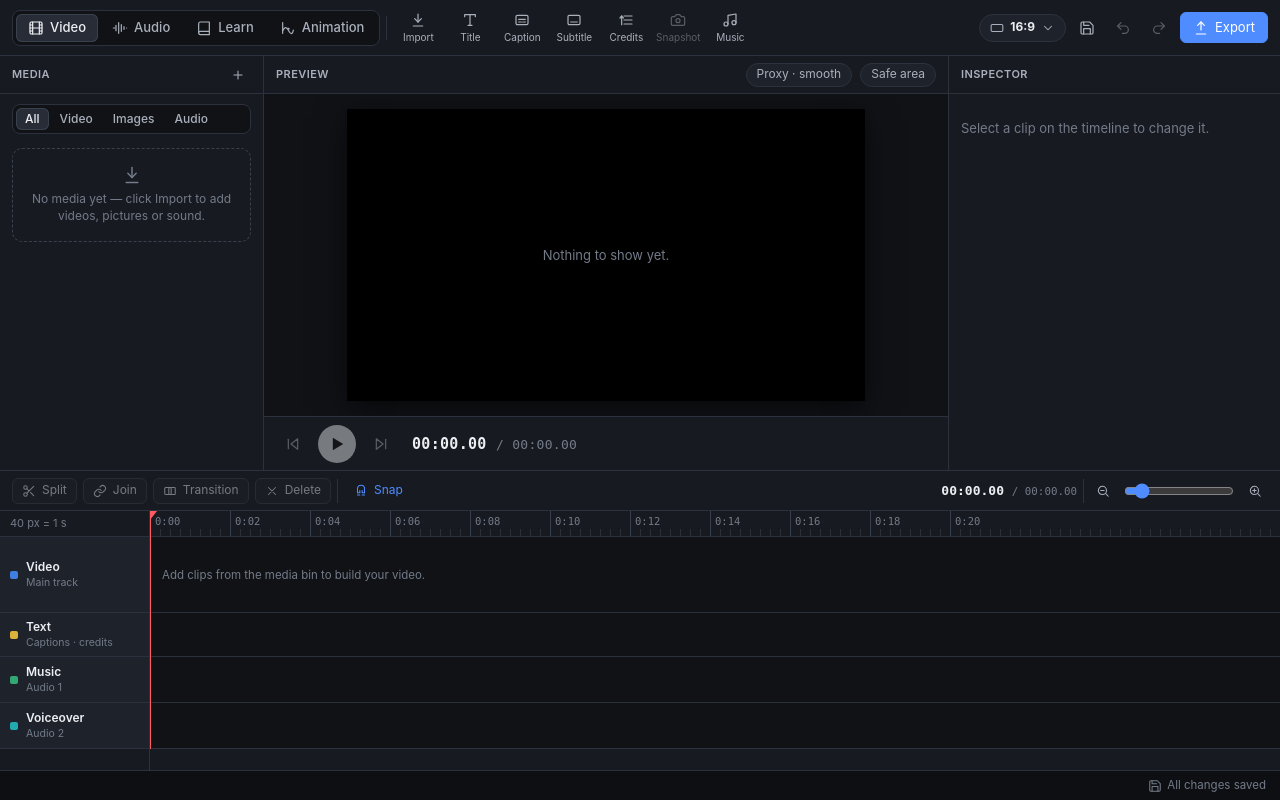
Scenario: the app has tooltips in every mode › the Audio mode toolbar buttons explain themselves
Click the 1st button "Audio".
click(141, 28)  # box [100,14,182,42]
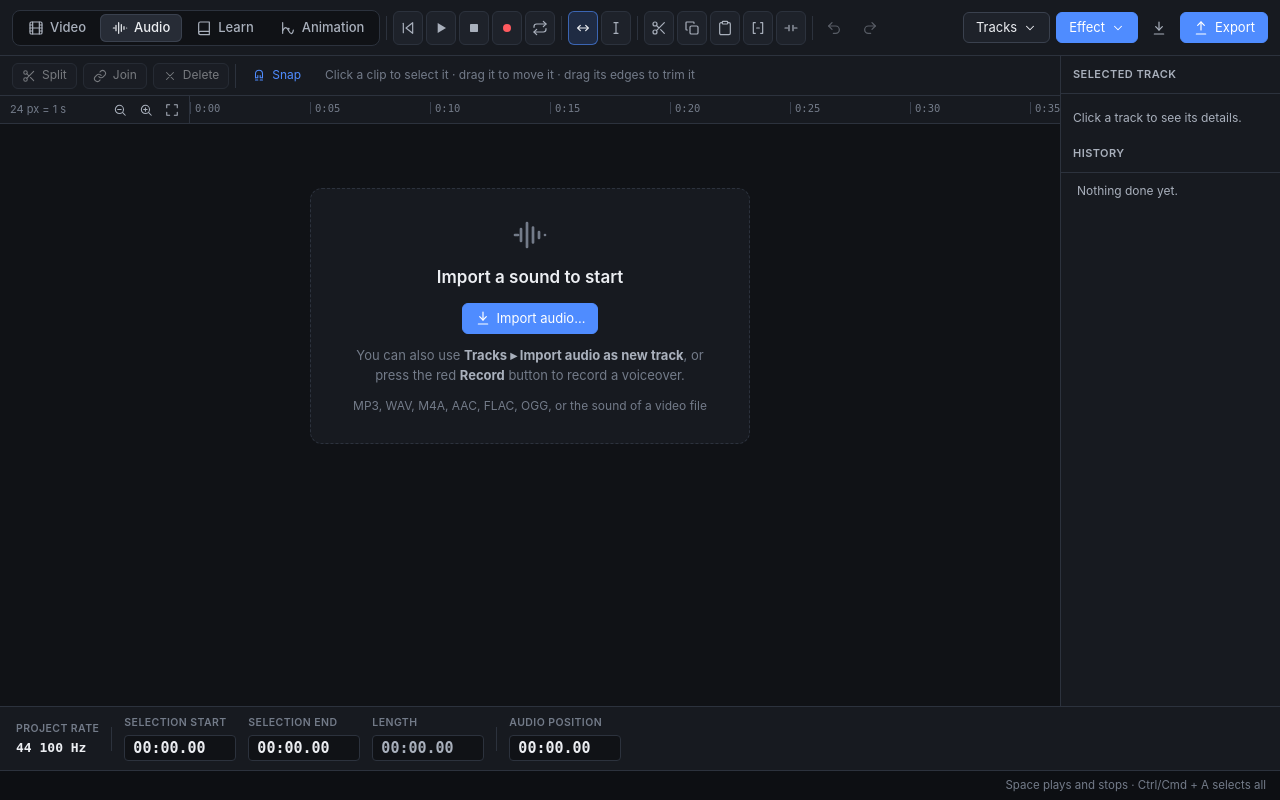
Hover over the button named "Clip tool".
mouse_move(583, 28)  # box [568,10,598,44]
Wait 400 ms
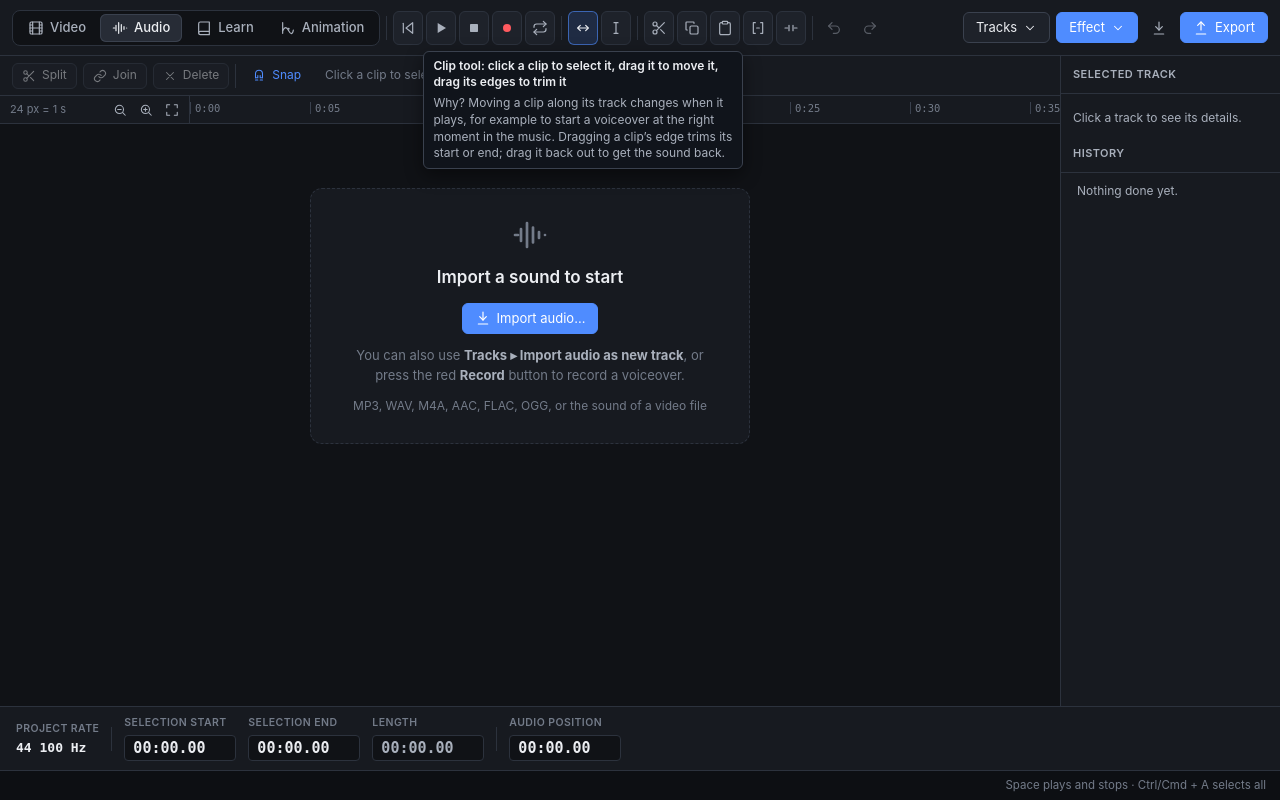
Now the tooltip shows "drag it to move it", box [433,58,718,89]
